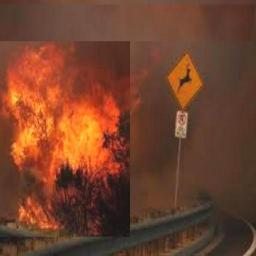Large fire: (0, 42, 132, 232)
